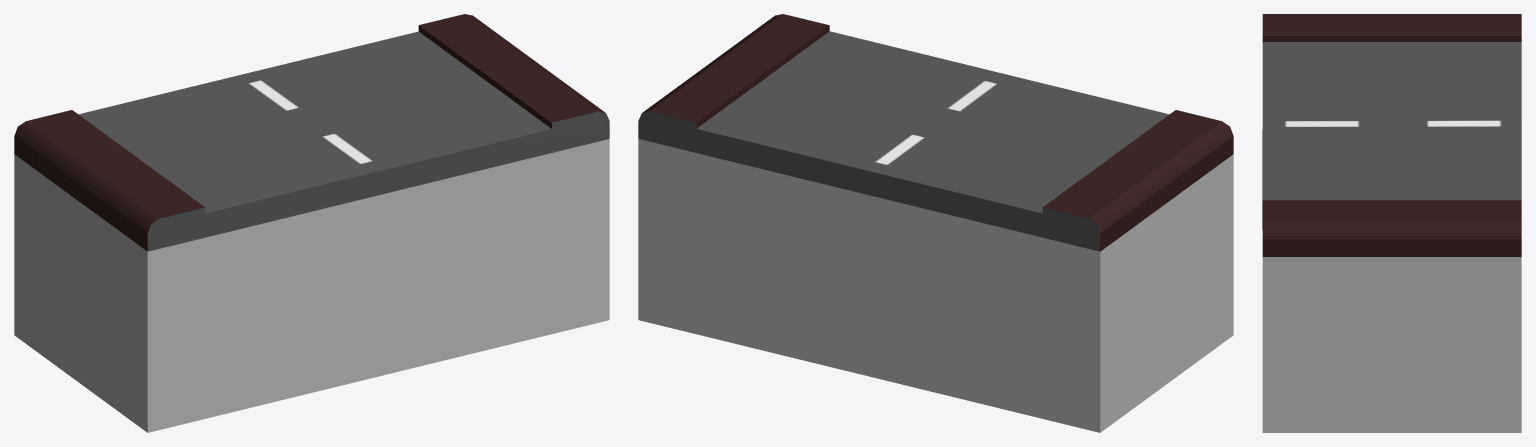
The model's file is Road medium border.fbx.
3 views of the same model, side by side, from view 1: azimuth 30°, elevation 25°; view 2: azimuth 150°, elevation 25°; view 3: azimuth 270°, elevation 25° (orthographic). The views are drawn at different scales.
Parts seen in each view (by area): view 1: Road_medium_01, Road_medium_01_Cap; view 2: Road_medium_01, Road_medium_01_Cap; view 3: Road_medium_01_Cap, Road_medium_01.
Part boxes in pixels (x1,y1,x2,y2): Road_medium_01: (14, 139, 609, 432); Road_medium_01_Cap: (14, 14, 609, 251); Road_medium_01: (638, 139, 1233, 432); Road_medium_01_Cap: (638, 14, 1233, 251); Road_medium_01_Cap: (1262, 14, 1521, 256); Road_medium_01: (1262, 257, 1521, 432).
Bounding box in the file's own units: 800 × 350 × 401.
